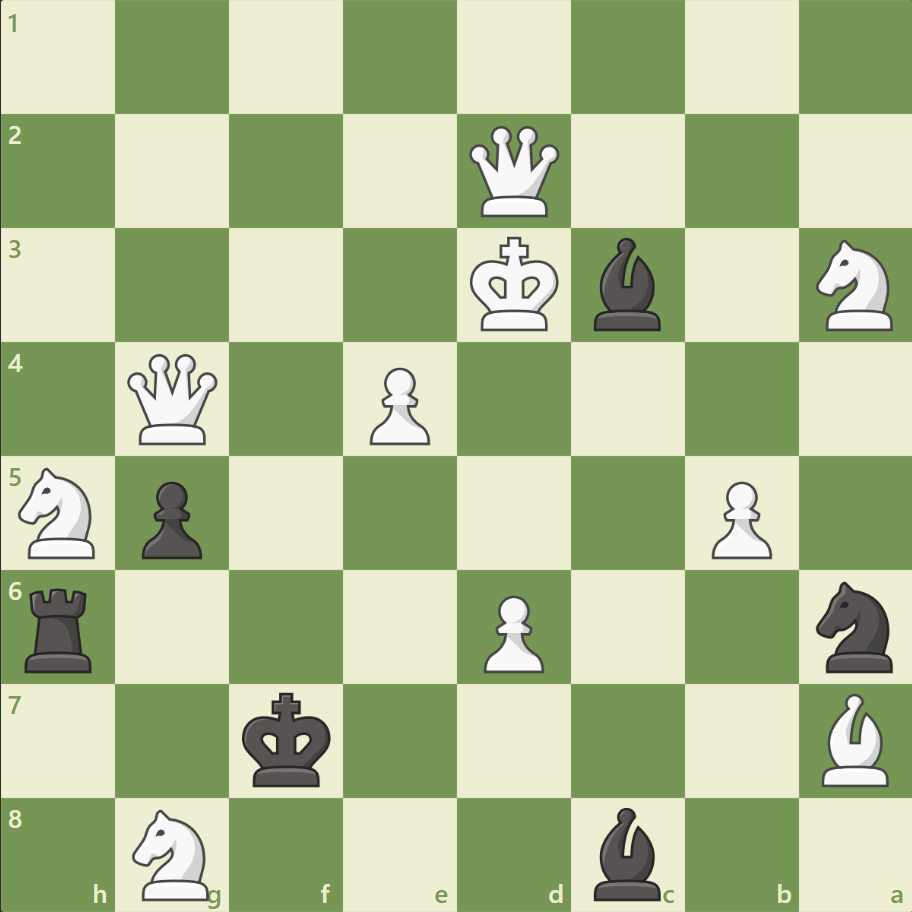B: (812, 687, 896, 790)
K: (465, 231, 565, 339)
N: (124, 802, 222, 904), (11, 461, 108, 564), (806, 234, 903, 337)
P: (474, 586, 549, 677), (701, 473, 776, 564), (361, 359, 435, 450)
Q: (124, 349, 223, 449), (464, 122, 563, 222)
b: (585, 801, 669, 904), (585, 233, 669, 336)
k: (238, 685, 338, 793)
n: (806, 575, 903, 677)
p: (133, 473, 208, 564)
r: (19, 579, 102, 676)
